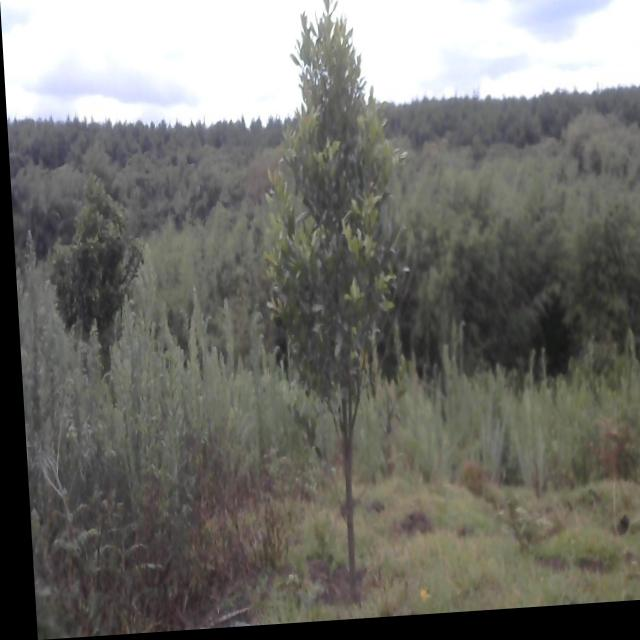other: (41, 158, 152, 390)
